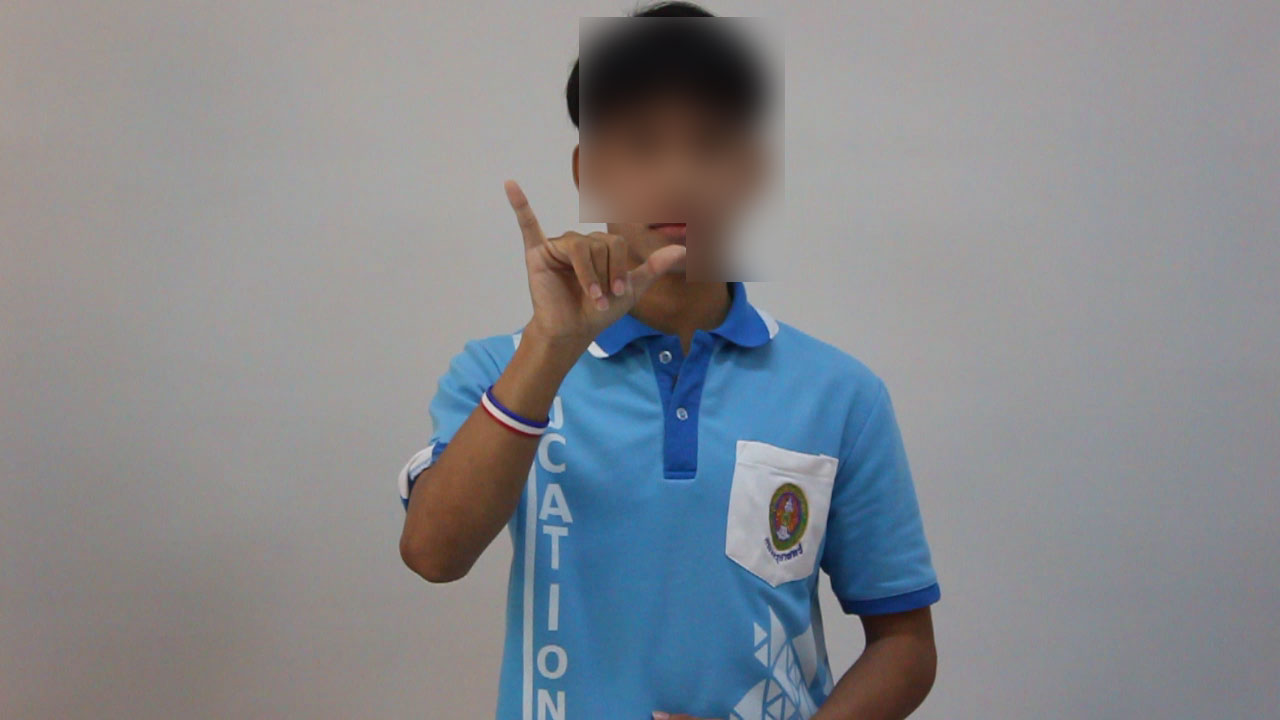yor: (479, 172, 695, 367)
